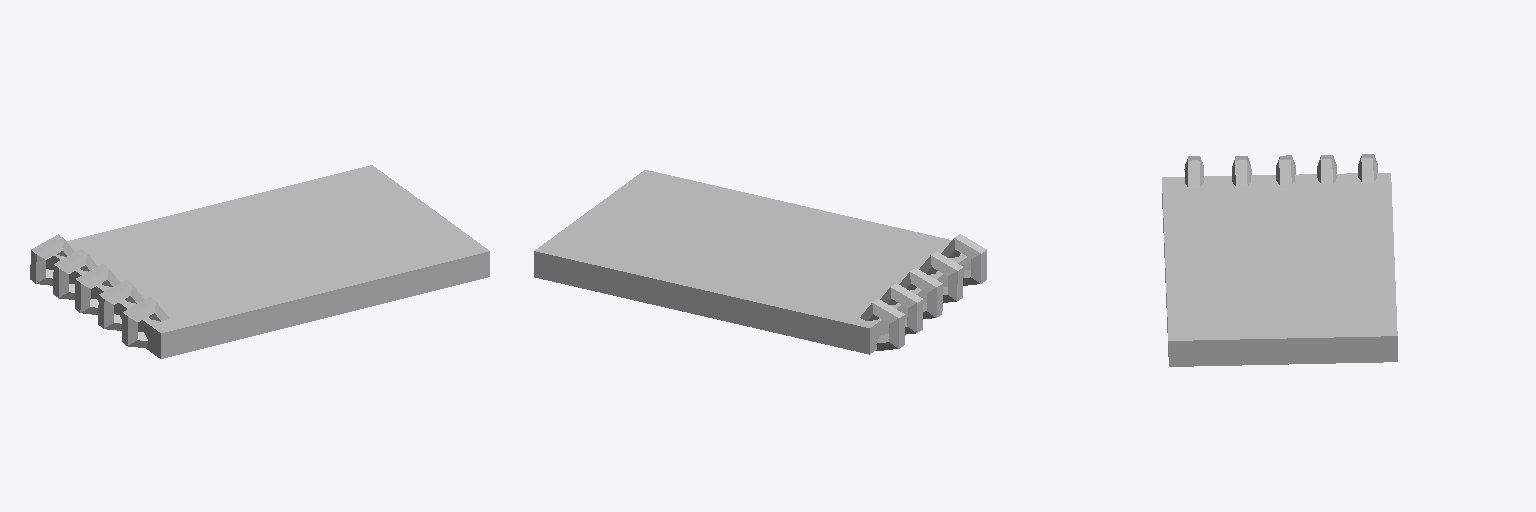
The model's file is paperPad_mesh 1.obj.
3 renders of one model, left to right at view 1: azimuth 30°, elevation 25°; view 2: azimuth 150°, elevation 25°; view 3: azimuth 270°, elevation 25°, orthographic.
Parts seen in each view (by area): view 1: noteBook_mesh; view 2: noteBook_mesh; view 3: noteBook_mesh.
Part boxes in pixels (x1,y1,x2,y2): noteBook_mesh: (30,165,489,358); noteBook_mesh: (534,170,986,354); noteBook_mesh: (1162,154,1397,366).
Size of the model in its own units: 0.3064 by 0.0401 by 0.1756.